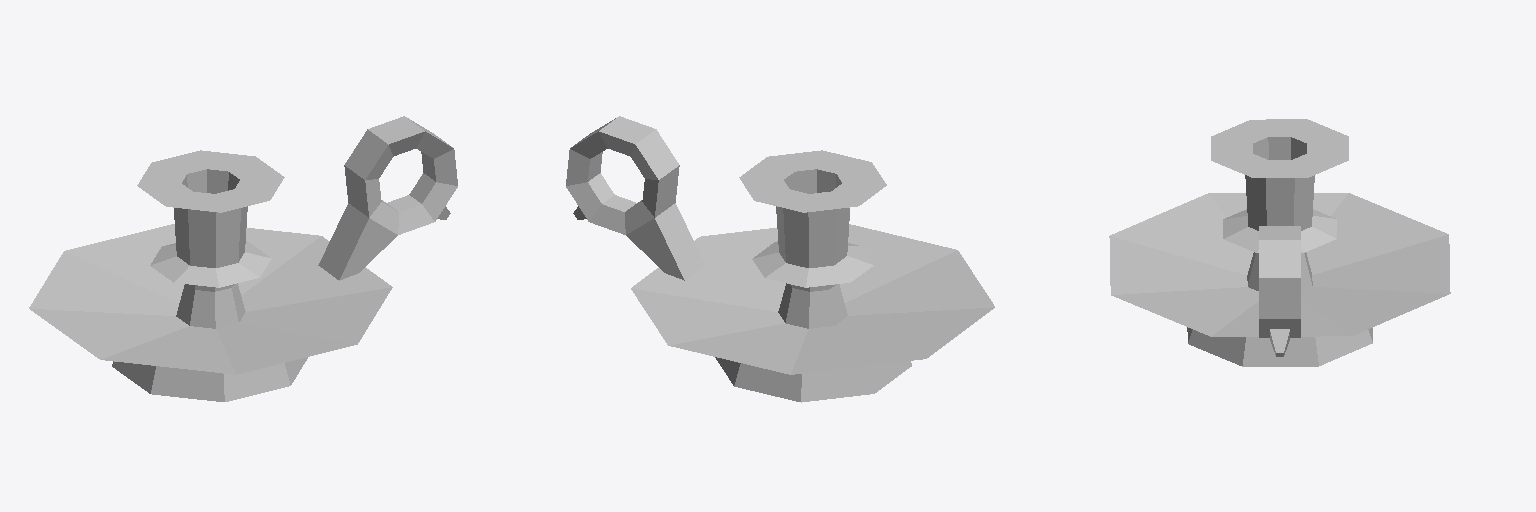
File: candlestickwithgrip01.obj
3 views of the same model, side by side, from view 1: azimuth 30°, elevation 25°; view 2: azimuth 150°, elevation 25°; view 3: azimuth 270°, elevation 25° (orthographic).
Visible parts, largest first — view 1: Cylinder.001; view 2: Cylinder.001; view 3: Cylinder.001.
Part boxes in pixels (left/top/right/bottom): Cylinder.001: left=29, top=116, right=457, bottom=401; Cylinder.001: left=566, top=116, right=994, bottom=402; Cylinder.001: left=1109, top=119, right=1450, bottom=366.
Size of the model in its own units: 0.18 by 0.0834 by 0.1379.